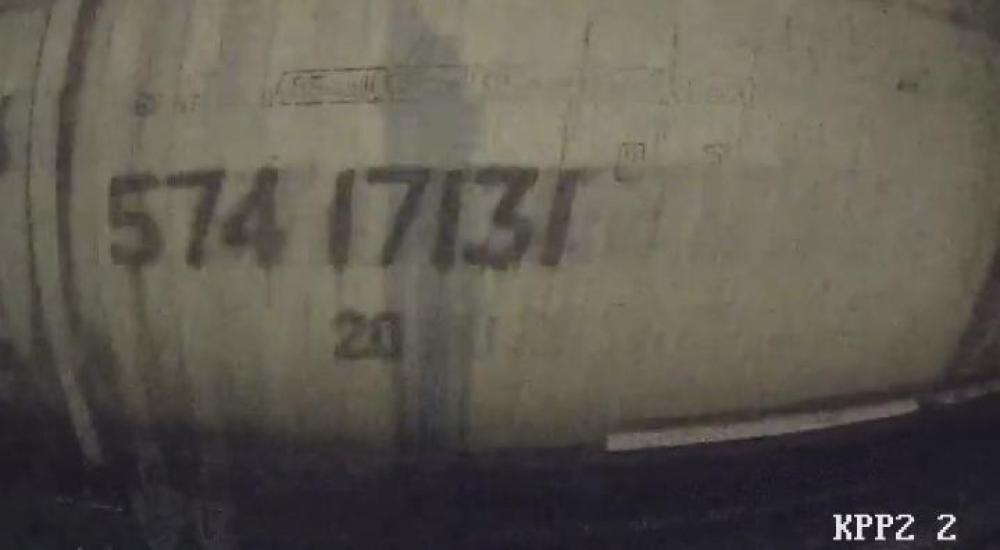Wagon-number: (99, 153, 591, 277)
